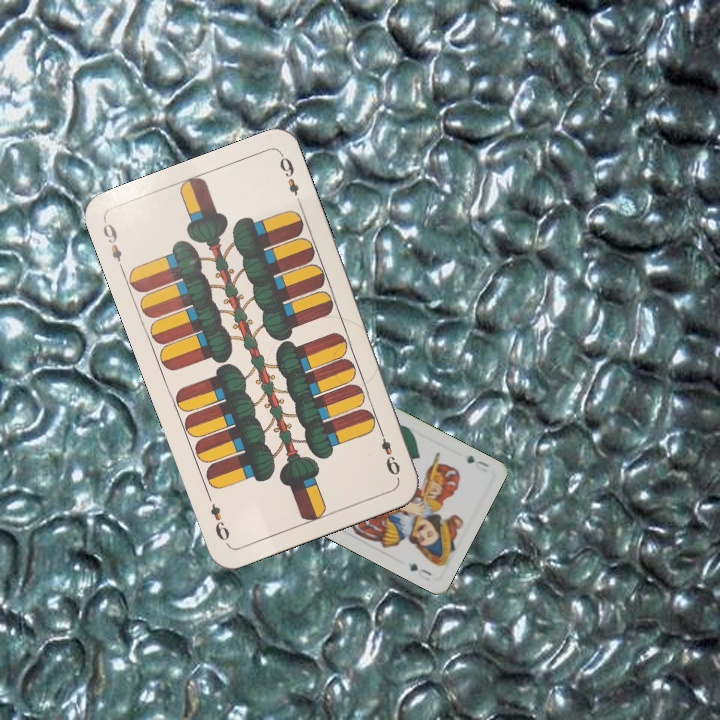E9: (374, 424, 403, 481), (98, 217, 127, 274)
GU: (463, 451, 492, 470)
